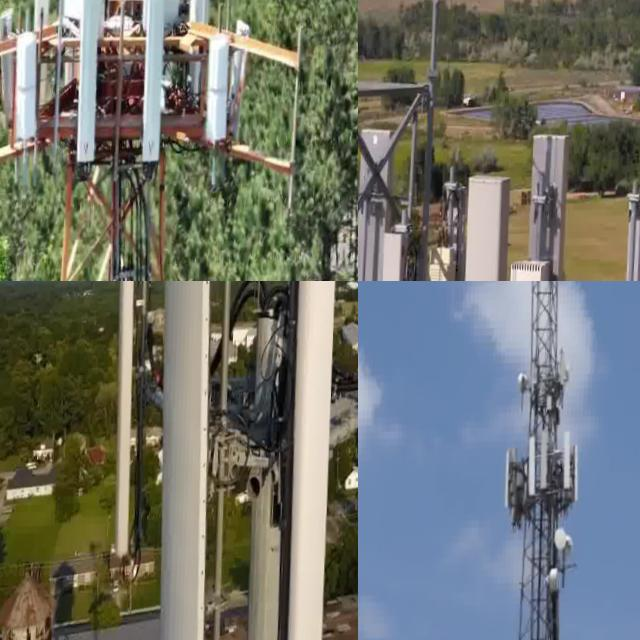GSM Antenna: (136, 281, 245, 640), (272, 281, 351, 640), (99, 281, 160, 565), (516, 119, 578, 281), (446, 160, 524, 281), (136, 0, 182, 169), (70, 0, 114, 171), (358, 119, 398, 281), (12, 27, 54, 158), (199, 22, 242, 148), (0, 5, 23, 112), (505, 442, 524, 522), (572, 432, 589, 511), (527, 431, 545, 503), (561, 431, 578, 507), (540, 427, 557, 495), (29, 0, 61, 33)
Microwave Antenna: (549, 568, 567, 593), (519, 369, 533, 399), (568, 532, 581, 556), (559, 528, 572, 551), (568, 364, 578, 388)
